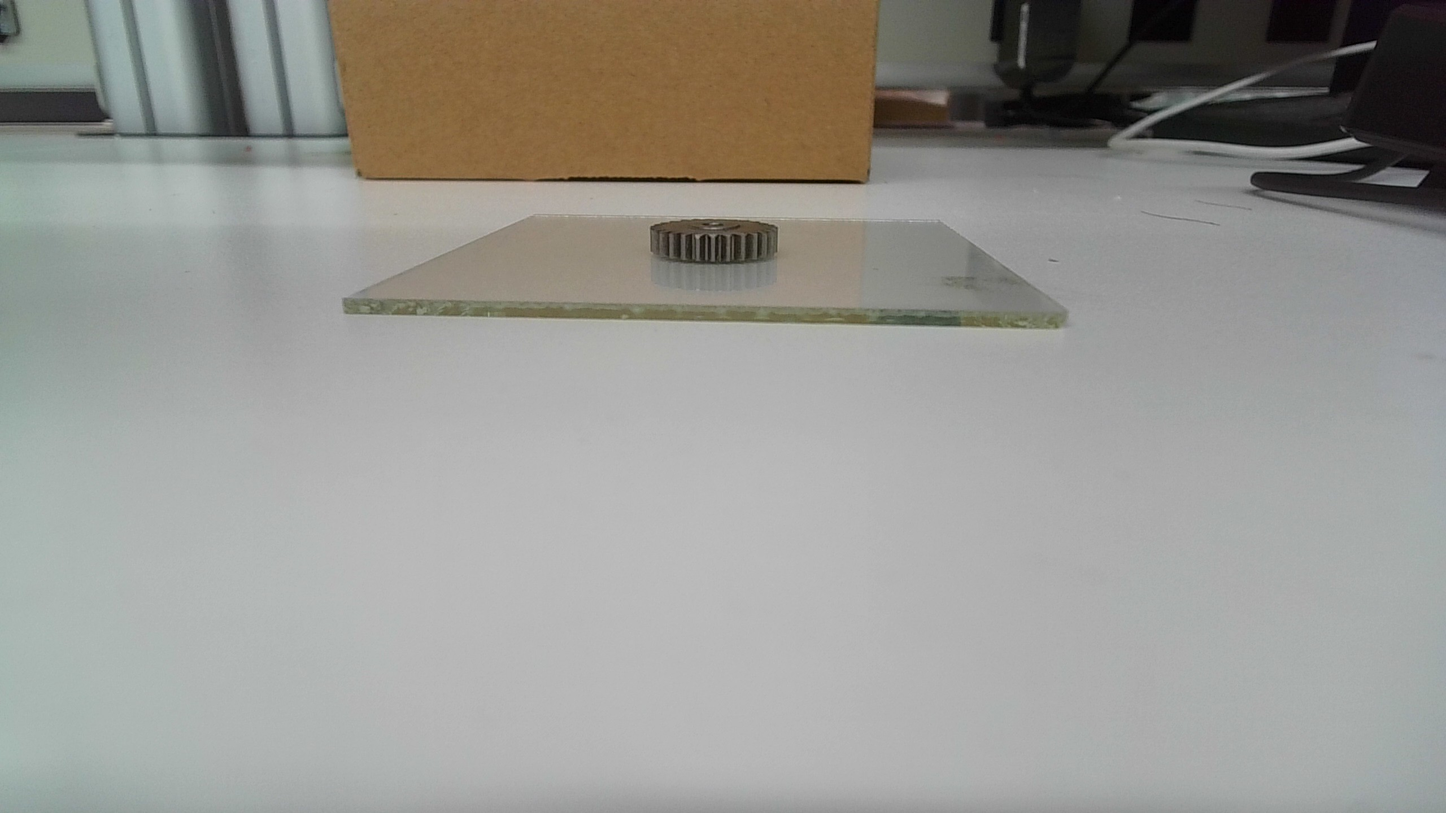gear: (647, 217, 783, 265)
